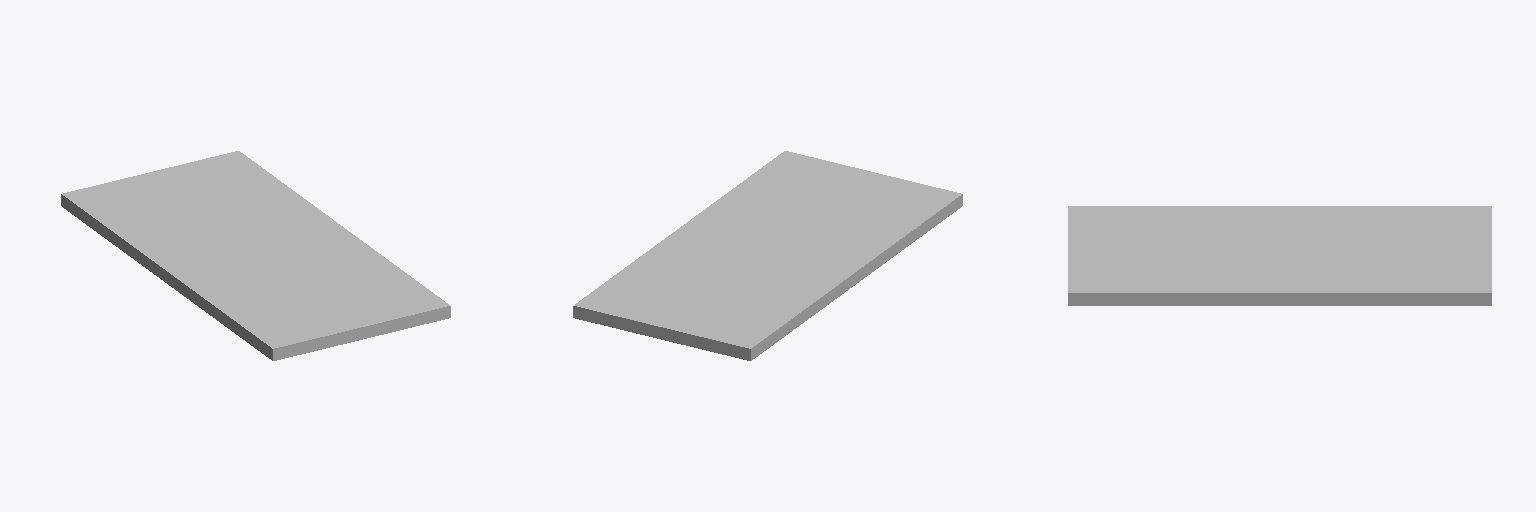
Rendered from money.obj.
The picture shows the model from 3 angles: view 1: azimuth 30°, elevation 25°; view 2: azimuth 150°, elevation 25°; view 3: azimuth 270°, elevation 25°; orthographic projection.
Visible parts, largest first — view 1: object 1; view 2: object 1; view 3: object 1.
Part boxes in pixels (bbox=[...]): object 1: bbox=[61, 151, 450, 360]; object 1: bbox=[573, 151, 962, 360]; object 1: bbox=[1068, 206, 1491, 305].
Size of the model in its own units: 1.5 by 0.1 by 3.1.